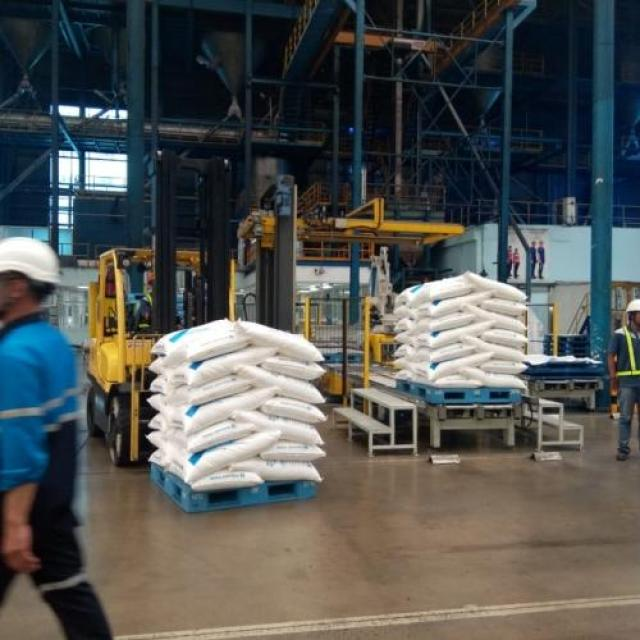Reflective-Jacket: (0, 318, 90, 436), (612, 325, 640, 387)
Safety-Helmet: (0, 232, 67, 292), (622, 296, 640, 318)
